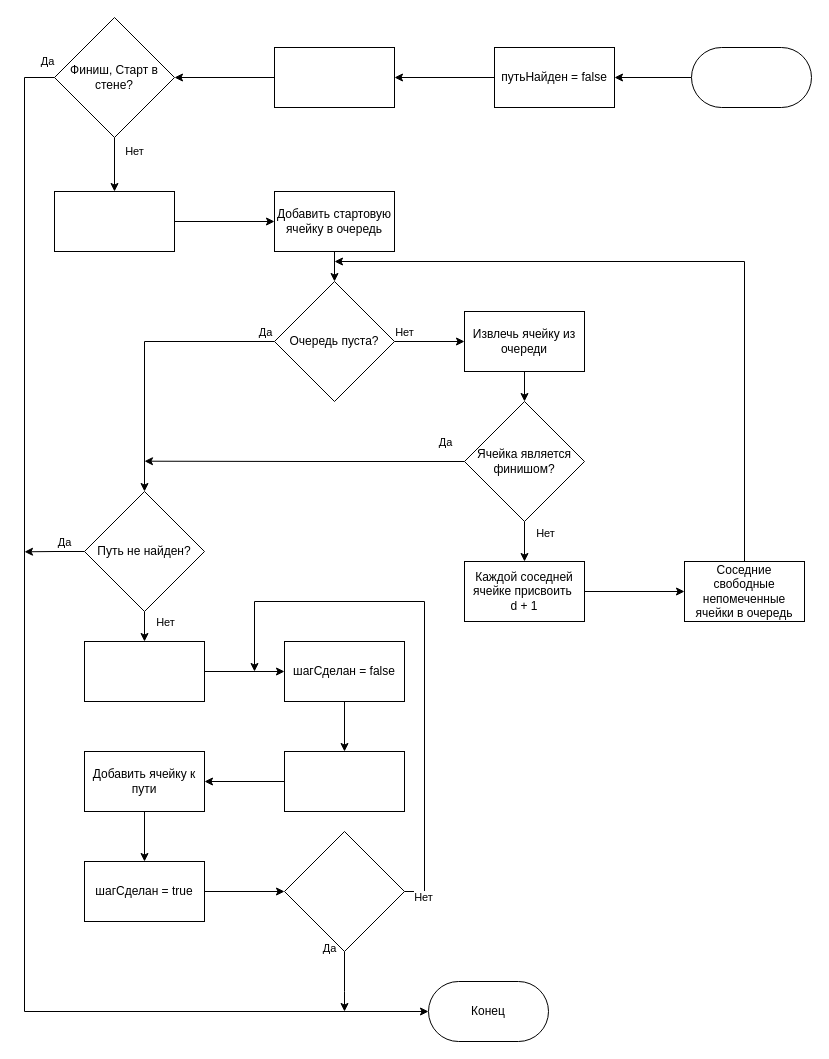
Some shapes in this 829 by 1059 pixel diagram are drawn without their labels. Here are the shapes that lost their labels. From the top down, the centre of each, then its label:
At point 334,77: "Пометить все клетки числом -1".
At point 751,77: "Начало".
At point 114,221: "Пометить стартовую ячейку d = 0".
At point 144,671: "Перейти в финишную ячейку".
At point 344,781: "Перейти в ячейку с d на 1 меньше, чем в ячейке".
At point 344,891: "Шаг не сделан или текущая ячейка стартовая?".
